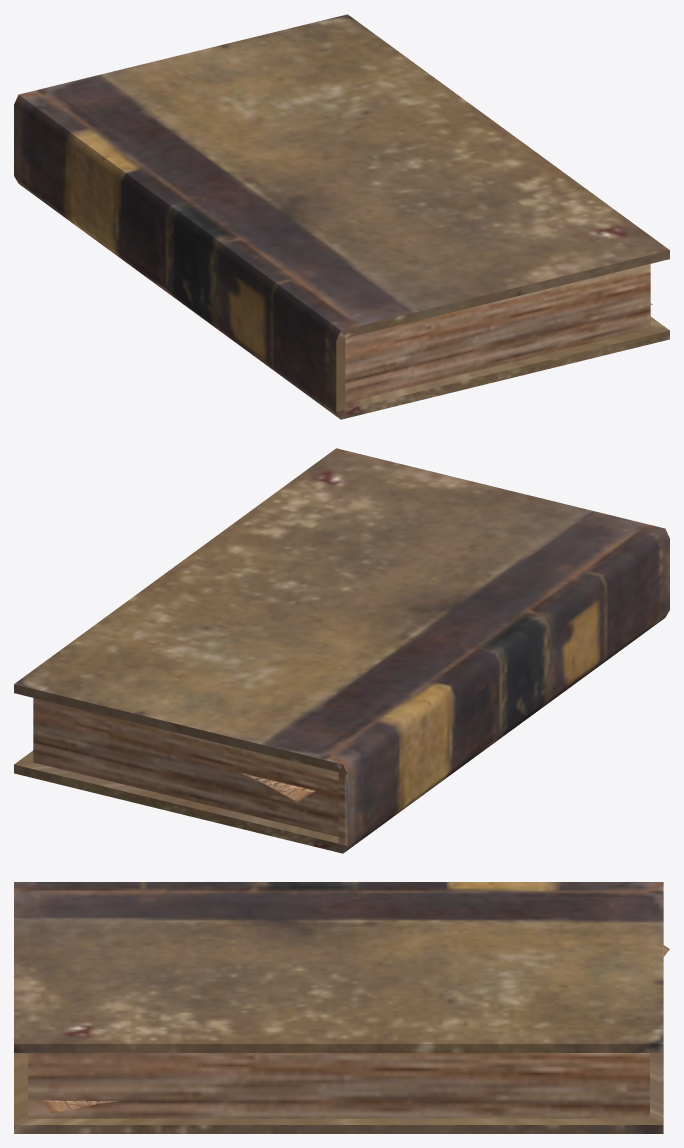
The model's file is Book02.fbx.
3 renders of one model, top to bottom at view 1: azimuth 30°, elevation 25°; view 2: azimuth 150°, elevation 25°; view 3: azimuth 270°, elevation 25°, orthographic.
Parts seen in each view (by area): view 1: pCube365.001; view 2: pCube365.001; view 3: pCube365.001.
Part boxes in pixels (left/top/right/bottom): pCube365.001: left=14, top=14, right=669, bottom=419; pCube365.001: left=14, top=448, right=669, bottom=853; pCube365.001: left=14, top=882, right=669, bottom=1133.
Size of the model in its own units: 45.57 by 11.59 by 76.63.
